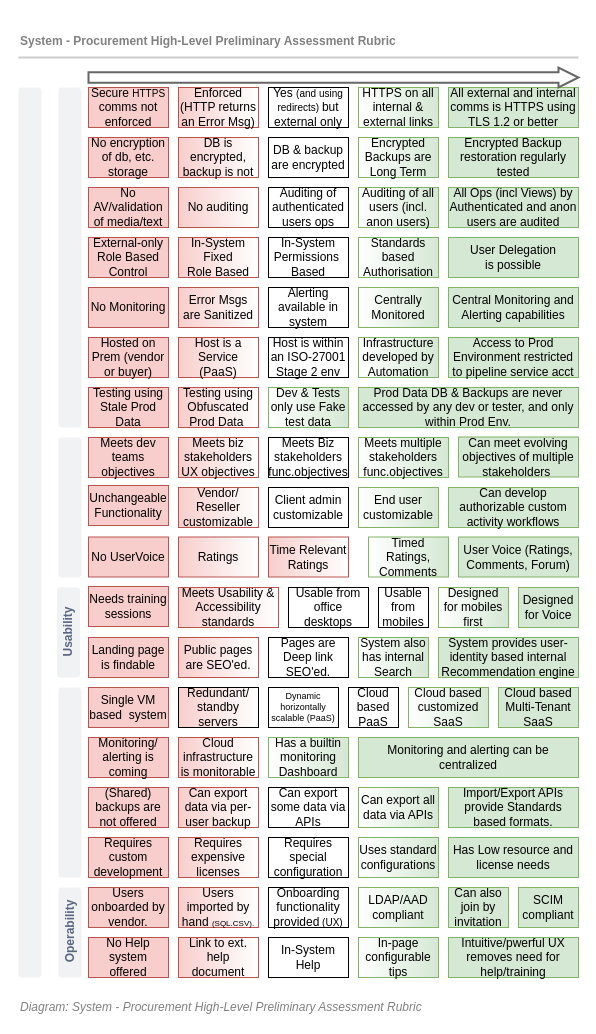
The diagram is 596 pixels wide and 1034 high, and some of its shapes have lost their labels. Each missing label, with the box of its shape:
Functionality: (58, 437, 81, 577)
HIGHER VALUE CONCEPTS: (87, 66, 579, 88)
Key ISO-25010 Qualities: (18, 87, 41, 977)
Maintainability: (58, 687, 81, 877)
Security: (58, 87, 81, 427)
